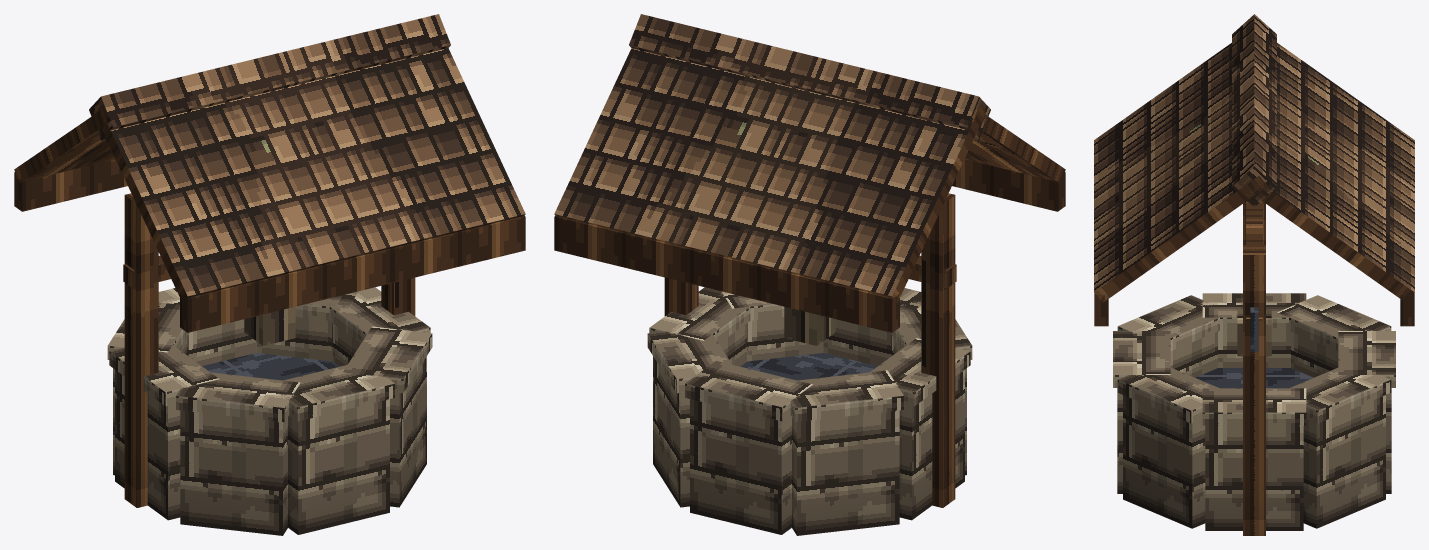
The model's file is MV_Well.glb.
The picture shows the model from 3 angles, left to right: view 1: azimuth 30°, elevation 25°; view 2: azimuth 150°, elevation 25°; view 3: azimuth 270°, elevation 25°; orthographic projection. The views are drawn at different scales.
Parts seen in each view (by area): view 1: MV_Well_A.MV_Well; view 2: MV_Well_A.MV_Well; view 3: MV_Well_A.MV_Well.
Boxes of the visible parts, x1,y1,x2,y2 form: MV_Well_A.MV_Well: (14, 14, 525, 535); MV_Well_A.MV_Well: (554, 14, 1065, 535); MV_Well_A.MV_Well: (1094, 14, 1414, 535).
Bounding box in the file's own units: 2.5 × 2.93 × 2.22.
Materials: 6 (6 with a texture image).
